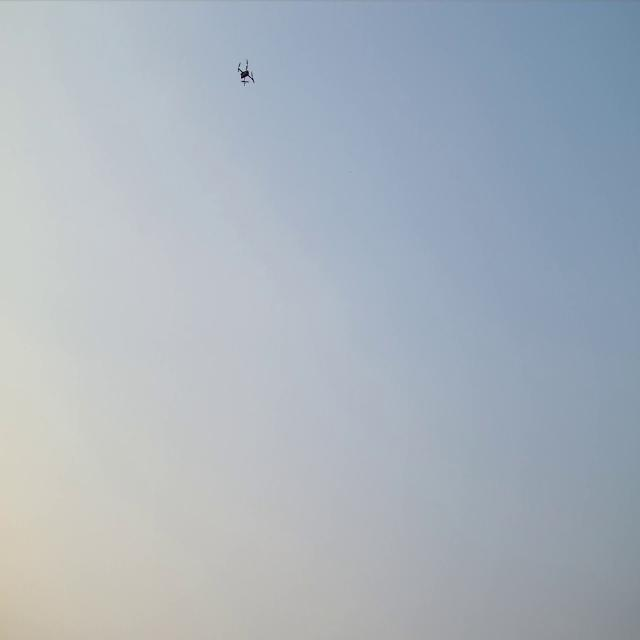UAV: (234, 57, 257, 88)
